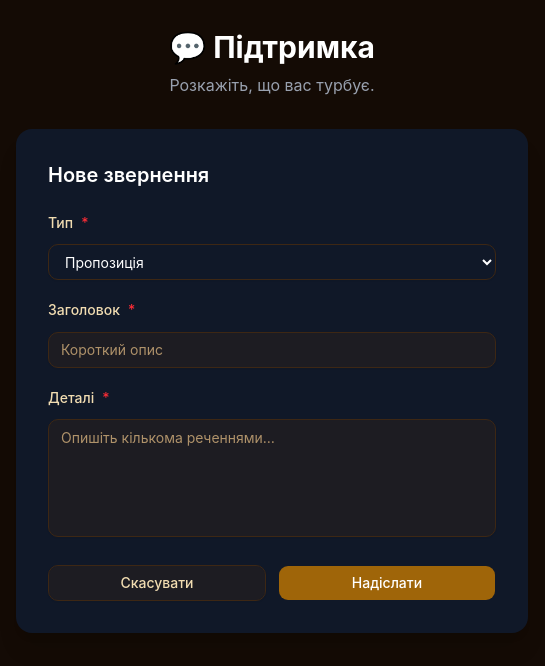
CreateSubmission › clears the error once the value becomes valid
The image size is (545, 666).
In the field with test id "submission-title-input": (272, 350) left=48, top=332, right=496, bottom=368, type "ab"
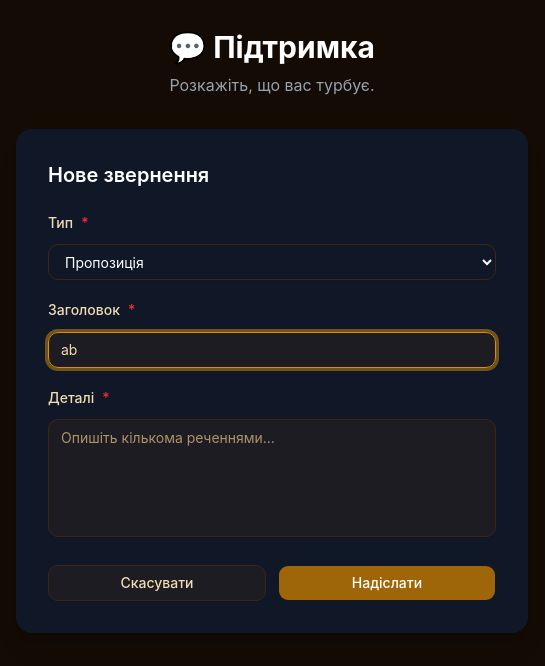
Press Tab
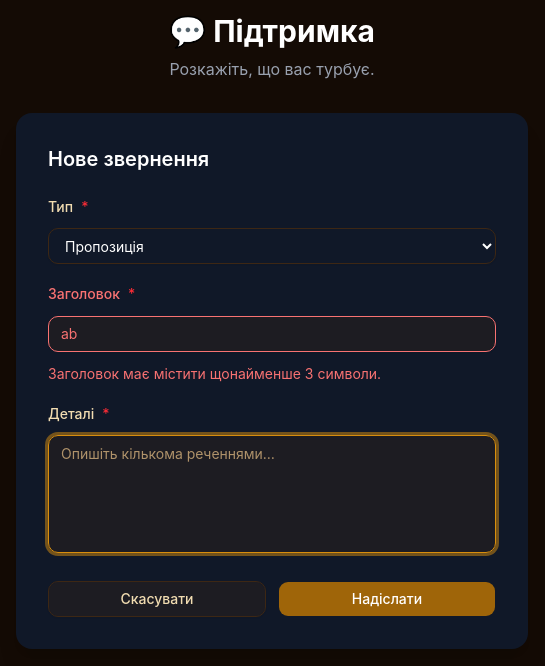
Result: the text "Заголовок має містити щонайменше 3 символи." is shown at left=48, top=365, right=381, bottom=382
In the field with test id "submission-title-input": (272, 334) left=48, top=316, right=496, bottom=352, type "c"
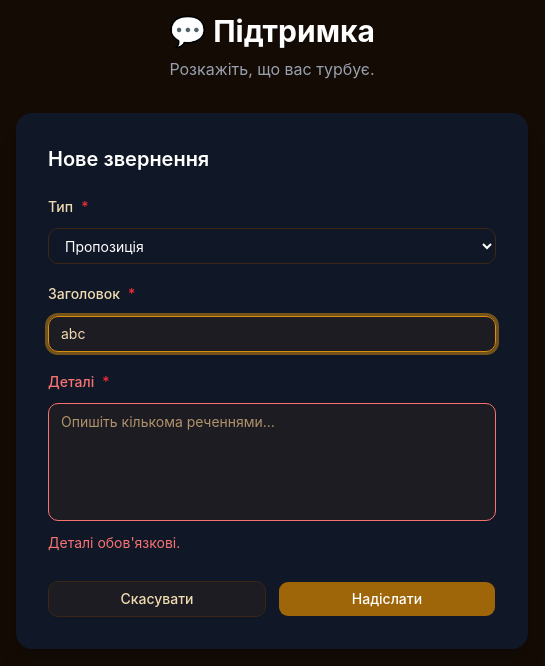
Result: the text "Заголовок має містити щонайменше 3 символи." is gone
